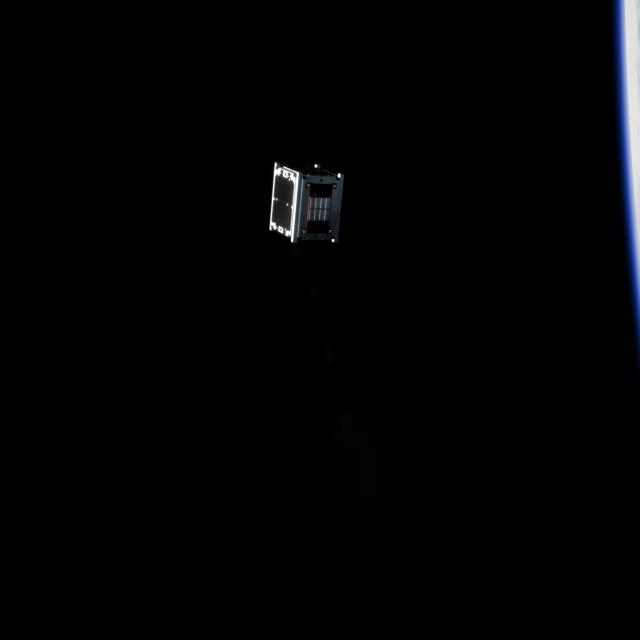satellite: (264, 155, 352, 250)
